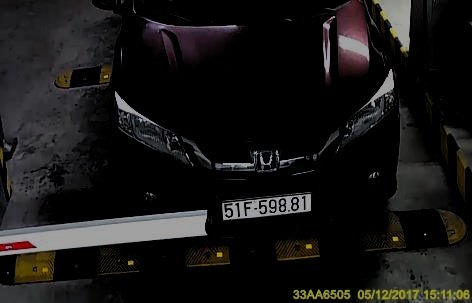plate: (218, 189, 312, 223)
